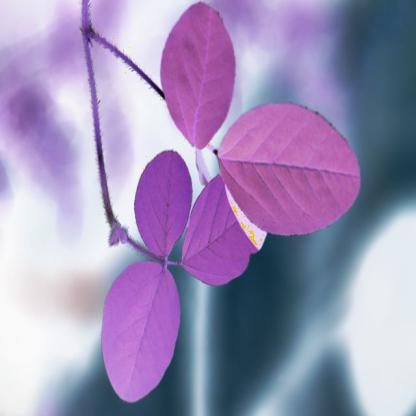Soyabean leaf: (215, 99, 365, 241), (178, 165, 288, 291), (98, 260, 185, 412), (161, 1, 242, 150), (131, 140, 197, 262)
